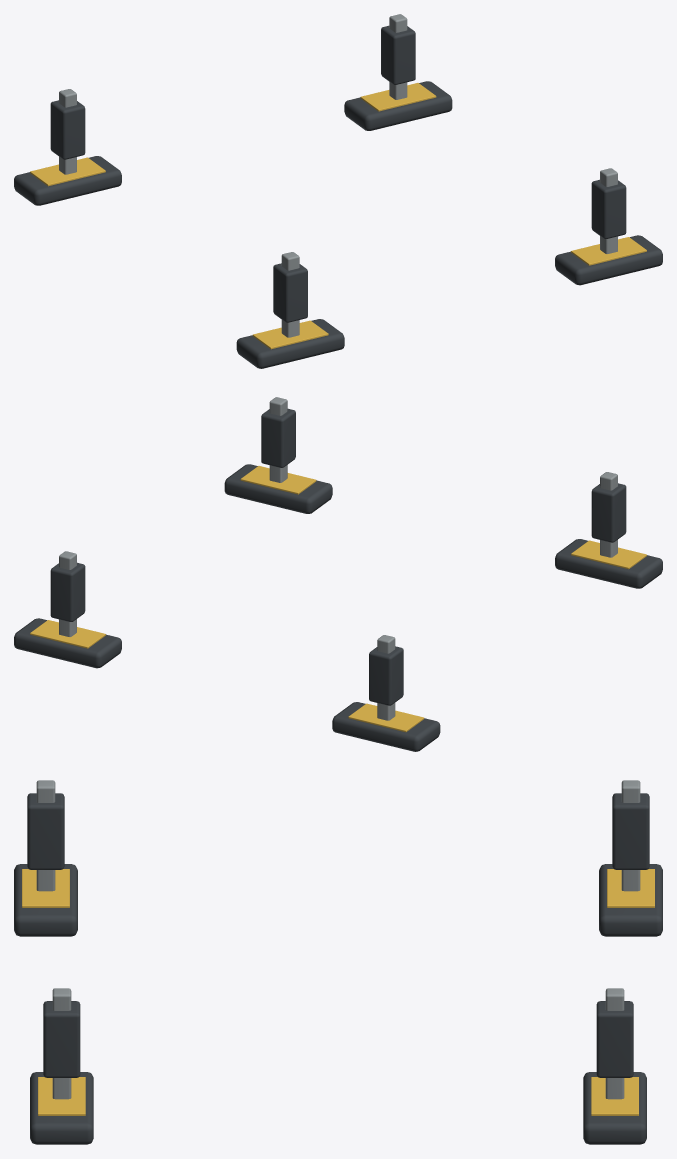
The model's file is SM_AtlasFoundry_Gear.fbx.
3 views of the same model, one above another, from view 1: azimuth 30°, elevation 25°; view 2: azimuth 150°, elevation 25°; view 3: azimuth 270°, elevation 25° (orthographic). The views are drawn at different scales.
Parts seen in each view (by area): view 1: SM_AtlasFoundry_Gear.001; view 2: SM_AtlasFoundry_Gear.001; view 3: SM_AtlasFoundry_Gear.001.
Part boxes in pixels (x1,y1,x2,y2): SM_AtlasFoundry_Gear.001: (14, 14, 662, 368); SM_AtlasFoundry_Gear.001: (14, 397, 662, 751); SM_AtlasFoundry_Gear.001: (14, 780, 662, 1144).
Bounding box in the file's own units: 23500 × 24400 × 5300.
